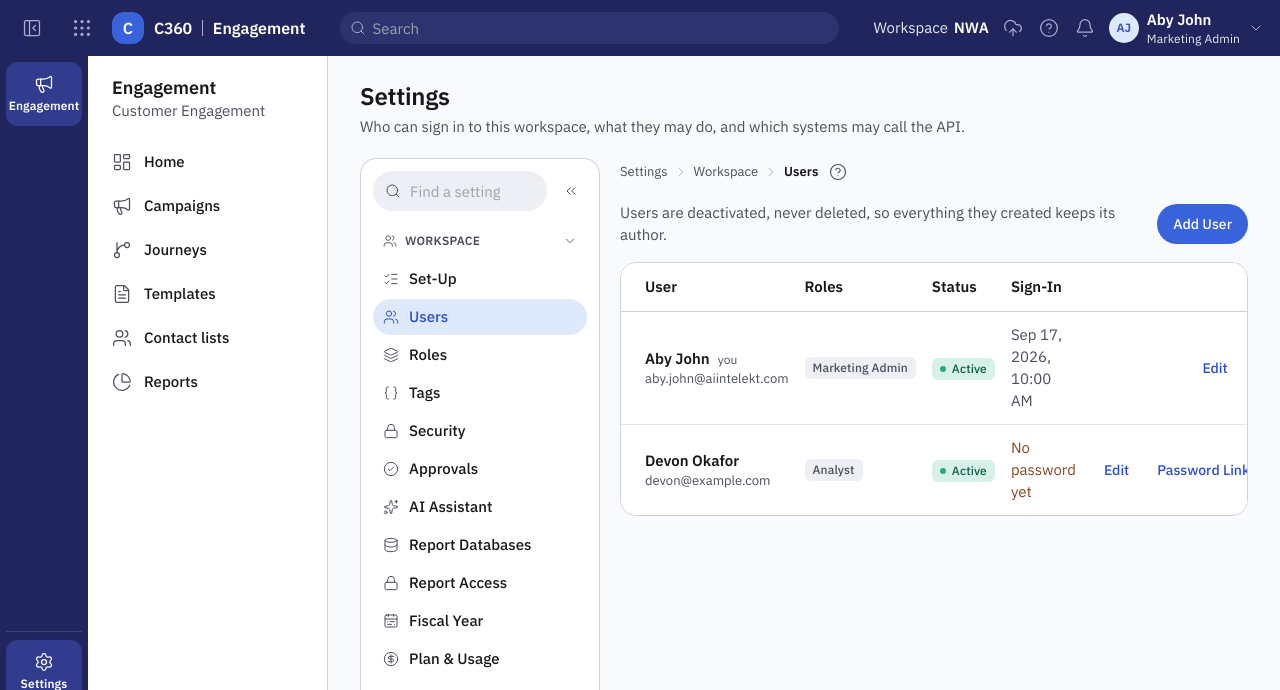
Test: the API refusing to strip the last administrator is shown in the dialog
The width and height of the screenshot is (1280, 690).
Click the button "Edit" in the row of "you": (1215, 368) [1190,352,1240,384]
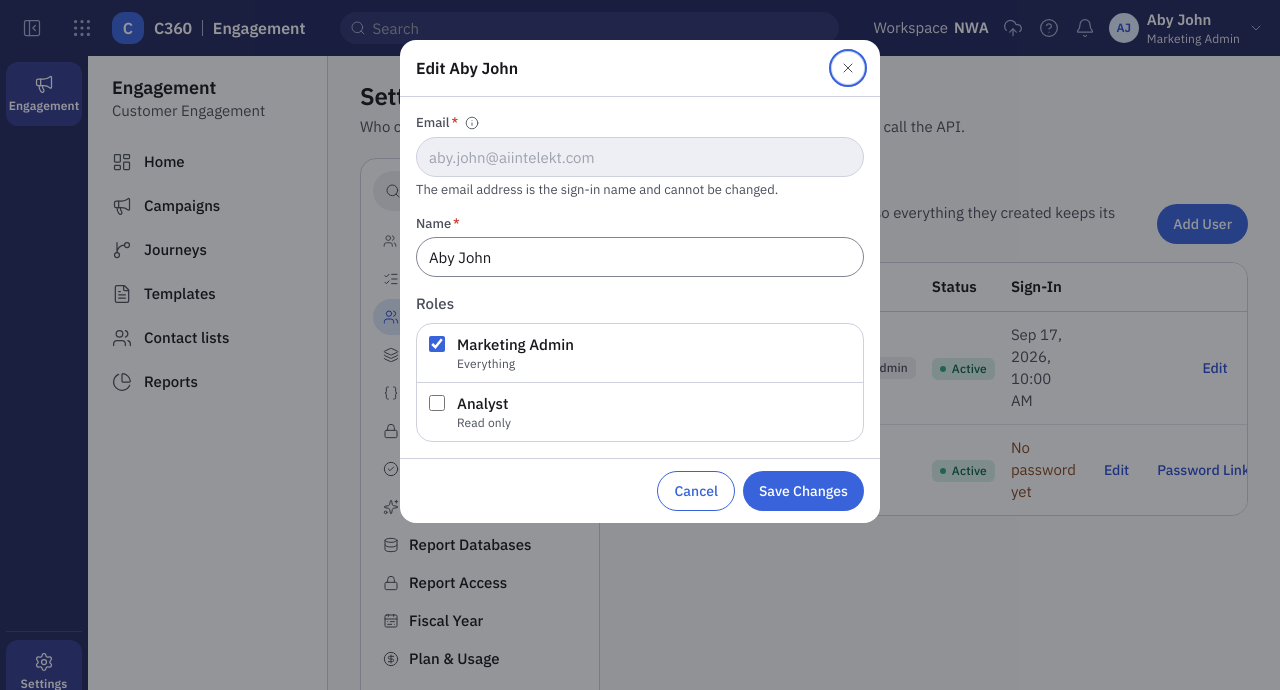
Expected: the field labelled "Email*" is disabled, [416,137,864,177]
Click the checkbox labelled "Marketing Admin Everything": (437, 344) [429,336,445,352]
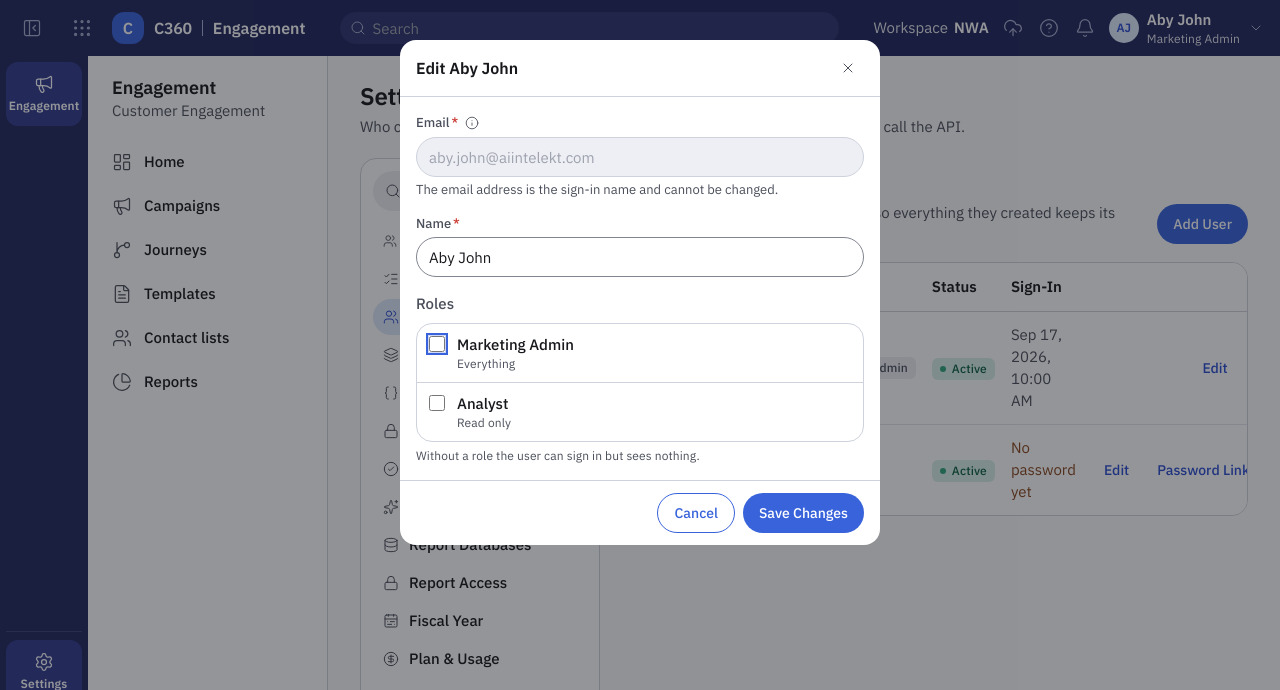
Click the button "Save Changes": (804, 513) [743,493,864,533]
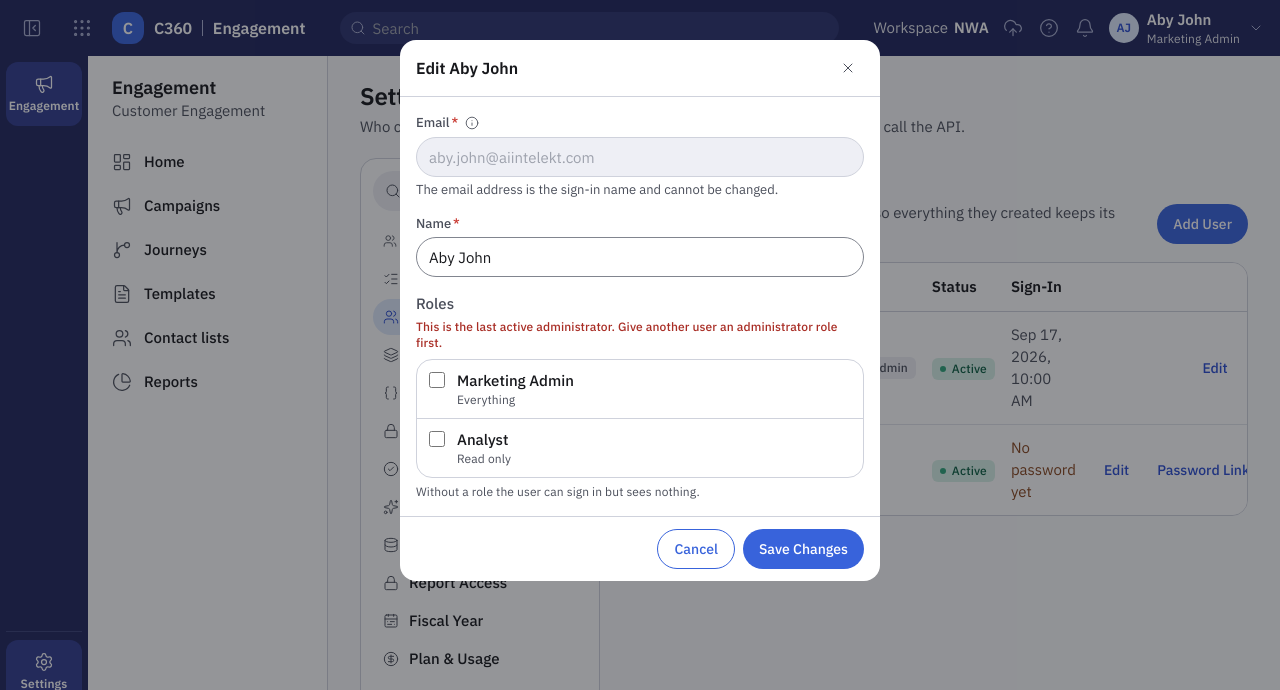
Expected: the text "last active administrator" is shown, [416,319,838,350]
